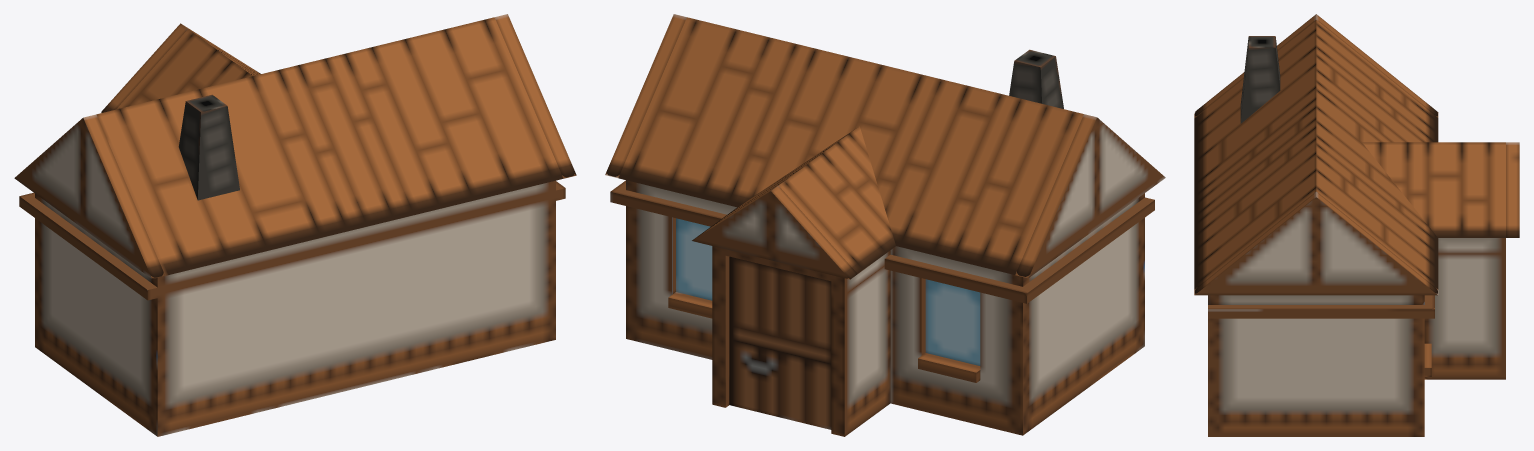
File: house_1.fbx
3 renders of one model, left to right at view 1: azimuth 30°, elevation 25°; view 2: azimuth 150°, elevation 25°; view 3: azimuth 270°, elevation 25°, orthographic. The views are drawn at different scales.
Parts seen in each view (by area): view 1: cuboid; view 2: cuboid; view 3: cuboid.
Part boxes in pixels (left/top/right/bottom): cuboid: left=14, top=14, right=576, bottom=436; cuboid: left=605, top=14, right=1165, bottom=436; cuboid: left=1194, top=14, right=1519, bottom=436.
Bounding box in the file's own units: 200 × 131 × 150.
Materials: 1 (1 with a texture image).
